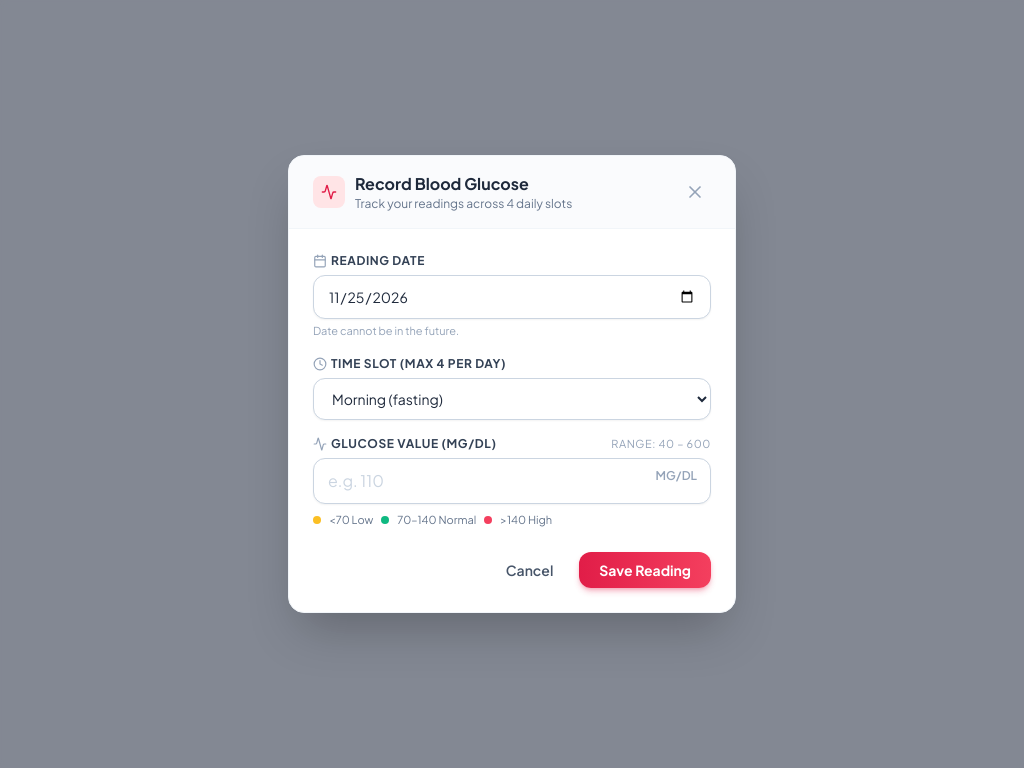
ReadingModal Form Component & Validation Rules › displays exact error "Value must be between 40 and 600 mg/dl." when value is below 40
This screenshot has width=1024, height=768.
Type "35" into the number field with test id "input-value" at (512, 480), box 313,458 -> 711,504
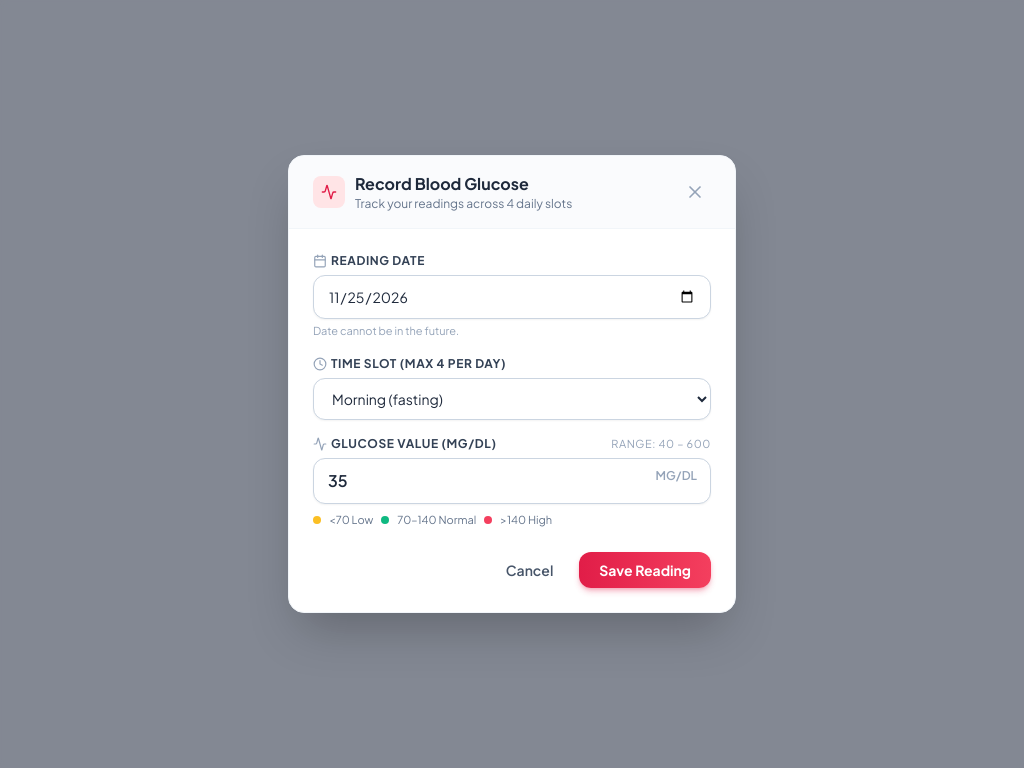
Click the button with test id "submit-reading-btn" at (645, 570), box 579,552 -> 711,588
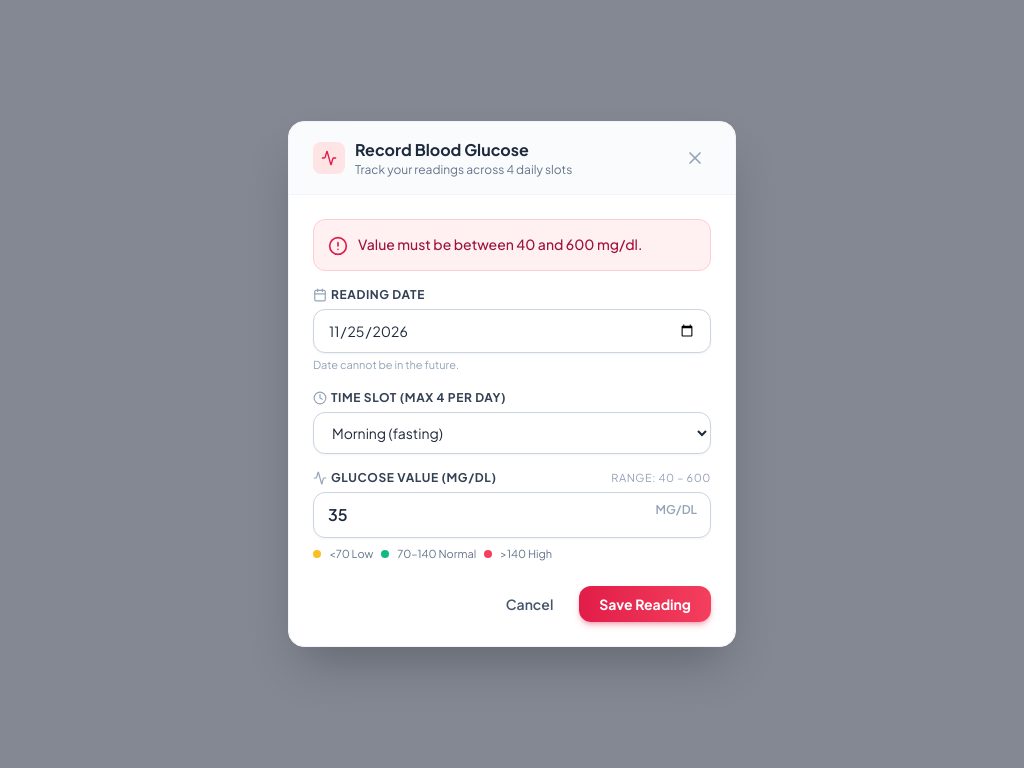
Expected: the message "Value must be between 40 and 600 mg/dl." is shown, 313,219 -> 711,271
Expected: the message with test id "validation-error-message" reads "Value must be between 40 and 600 mg/dl.", 358,235 -> 642,253
